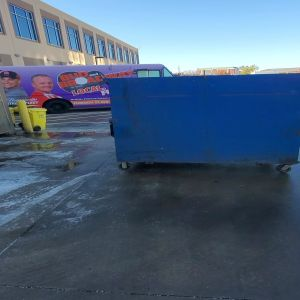Dumpster: (102, 76, 300, 177)
Person: (31, 73, 57, 98), (1, 70, 21, 91)
